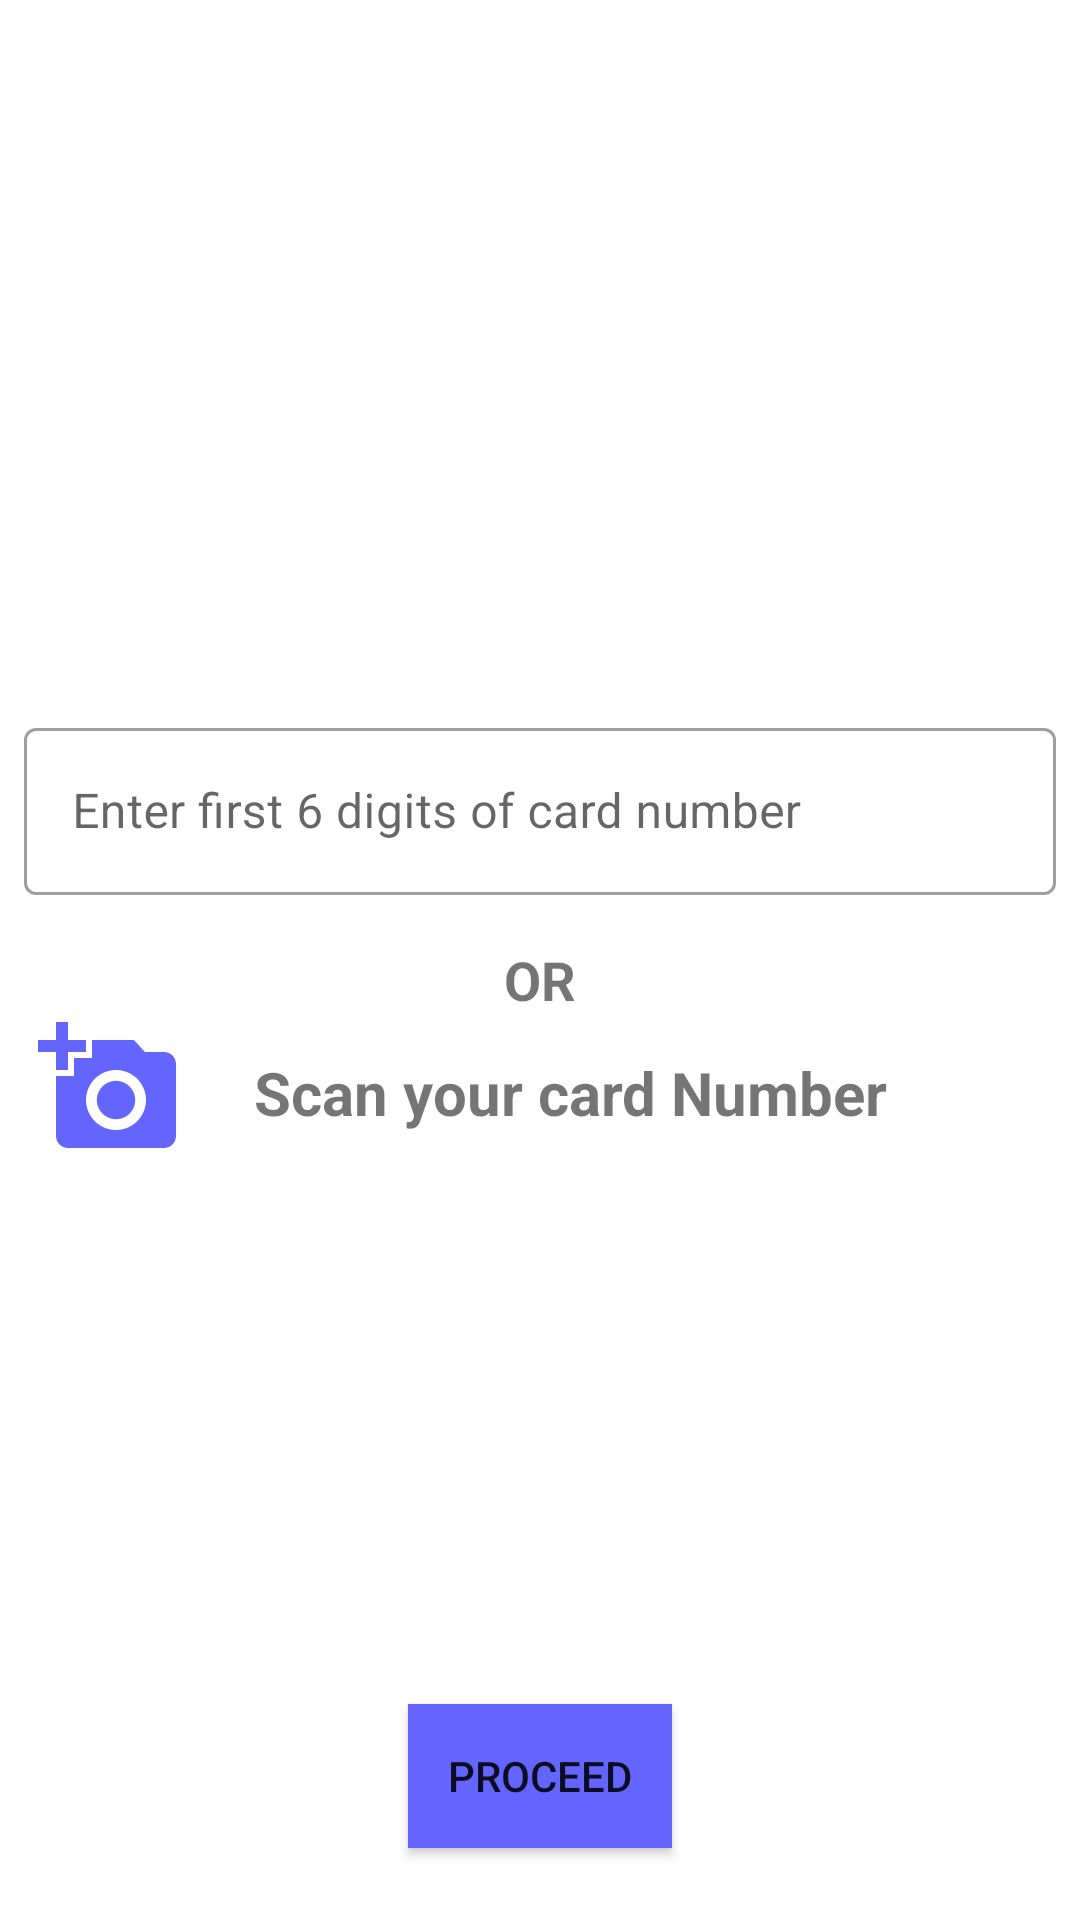

Icon bounding boxes for this 1080 x 1920 phone screenshot, format (x1, y1, x2, y2):
add photo: (38, 1022, 176, 1148)
